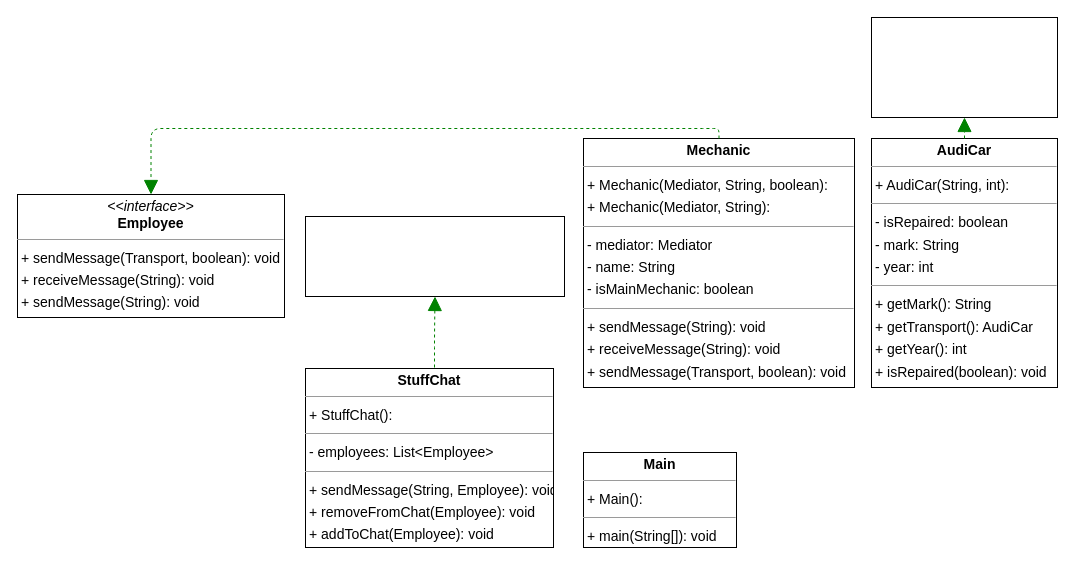
The diagram is 1075 pixels wide and 565 high, and some of its shapes have lost their labels. Each missing label, with the centre of its shape:
<<interface>> Mediator + sendMessage(String, Employee): void: (x=434, y=256)
<<interface>> Transport + getTransport(): AudiCar + isRepaired(boolean): void: (x=964, y=67)
